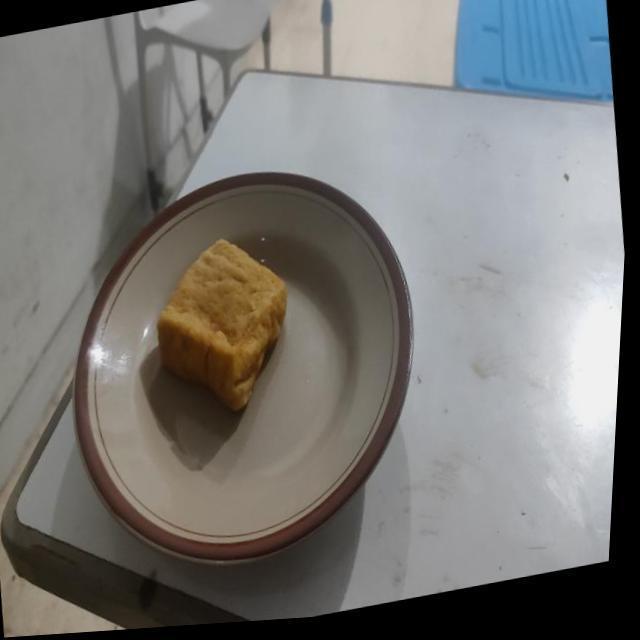tahu_goreng: (157, 239, 286, 410)
